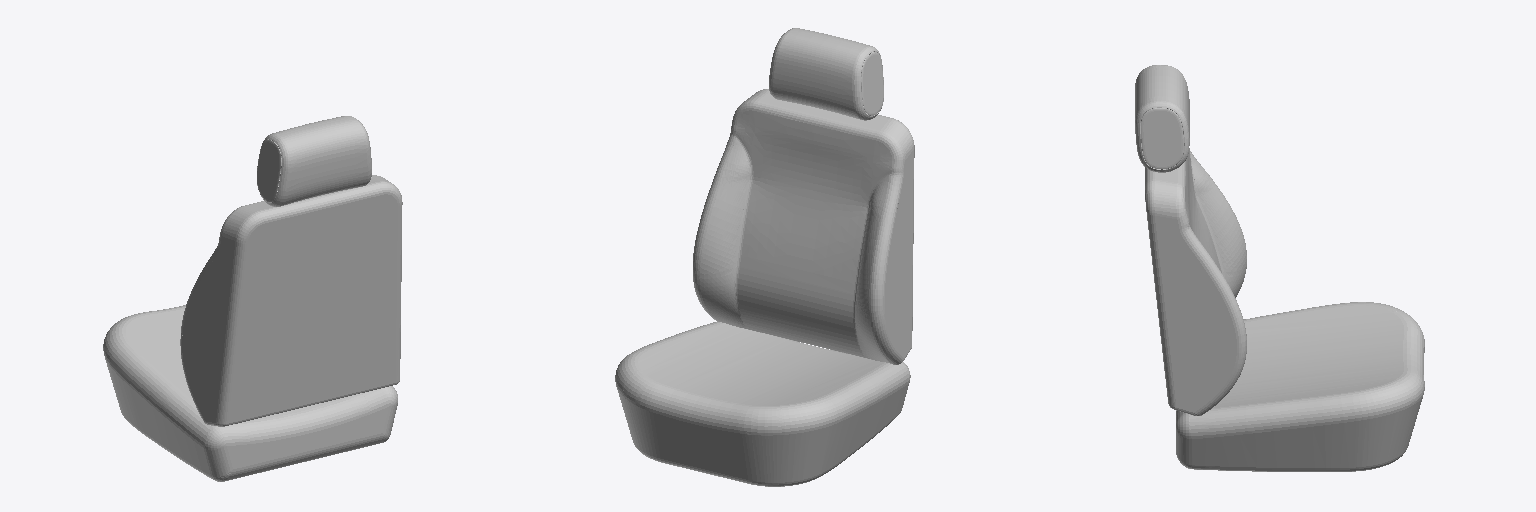
The picture shows the model from 3 angles: view 1: azimuth 30°, elevation 25°; view 2: azimuth 150°, elevation 25°; view 3: azimuth 270°, elevation 25°; orthographic projection.
Parts seen in each view (by area): view 1: CATIA_STL004, CATIA_STL007, CATIA_STL005, CATIA_STL, CATIA_STL006, CATIA_STL001; view 2: CATIA_STL002, CATIA_STL006, CATIA_STL007, CATIA_STL003, CATIA_STL005, CATIA_STL, CATIA_STL004, CATIA_STL001; view 3: CATIA_STL004, CATIA_STL006, CATIA_STL005, CATIA_STL007, CATIA_STL003, CATIA_STL, CATIA_STL001, CATIA_STL002.
Part boxes in pixels (x1,y1,x2,y2): CATIA_STL004: (182, 175, 402, 426); CATIA_STL007: (105, 359, 397, 481); CATIA_STL005: (103, 321, 397, 449); CATIA_STL: (257, 116, 371, 206); CATIA_STL006: (118, 305, 368, 443); CATIA_STL001: (257, 139, 281, 202); CATIA_STL002: (731, 100, 904, 357); CATIA_STL006: (623, 329, 868, 435); CATIA_STL007: (617, 382, 909, 486); CATIA_STL003: (693, 132, 904, 364); CATIA_STL005: (615, 322, 910, 434); CATIA_STL: (769, 28, 883, 120); CATIA_STL004: (743, 89, 914, 357); CATIA_STL001: (861, 52, 883, 115); CATIA_STL004: (1145, 167, 1236, 414); CATIA_STL006: (1176, 311, 1424, 416); CATIA_STL005: (1176, 302, 1412, 438); CATIA_STL007: (1176, 397, 1422, 471); CATIA_STL003: (1179, 151, 1246, 415); CATIA_STL: (1135, 65, 1189, 172); CATIA_STL001: (1141, 108, 1183, 169); CATIA_STL002: (1176, 148, 1225, 278).
Size of the model in its own units: 546 by 838 by 633.